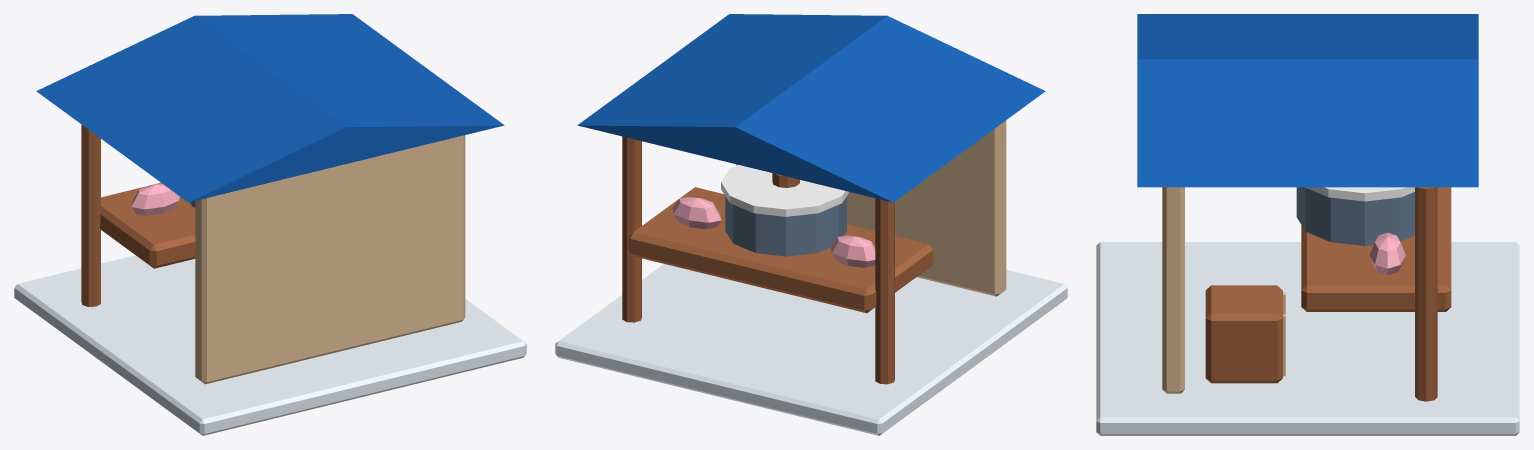
File: Building_Kamaboko_2x2_v001.fbx
The picture shows the model from 3 angles, left to right: view 1: azimuth 30°, elevation 25°; view 2: azimuth 150°, elevation 25°; view 3: azimuth 270°, elevation 25°; orthographic projection. The views are drawn at different scales.
Parts seen in each view (by area): view 1: Roof, BackWall, Foundation, Worktop, Post.001, Kamaboko.001; view 2: Roof, Foundation, BackWall, Worktop, Steamer, SteamerLid_Anim, Post.001, Post, Kamaboko, Kamaboko.001; view 3: Roof, Foundation, Worktop, Crate, Steamer, Post, BackWall, SteamerLid_Anim, Kamaboko.
Part boxes in pixels (x1=…): Roof: x1=36, y1=14, x2=504, y2=202; BackWall: x1=195, y1=135, x2=465, y2=384; Foundation: x1=14, y1=255, x2=526, y2=435; Worktop: x1=100, y1=183, x2=195, y2=268; Post.001: x1=81, y1=124, x2=100, y2=306; Kamaboko.001: x1=131, y1=183, x2=179, y2=215; Roof: x1=577, y1=14, x2=1045, y2=202; Foundation: x1=555, y1=264, x2=1067, y2=435; BackWall: x1=736, y1=120, x2=1006, y2=296; Worktop: x1=628, y1=187, x2=933, y2=313; Steamer: x1=725, y1=196, x2=846, y2=256; SteamerLid_Anim: x1=721, y1=165, x2=848, y2=216; Post.001: x1=875, y1=198, x2=894, y2=384; Post: x1=622, y1=136, x2=641, y2=322; Kamaboko: x1=672, y1=196, x2=721, y2=229; Kamaboko.001: x1=830, y1=235, x2=875, y2=267; Roof: x1=1137, y1=14, x2=1478, y2=187; Foundation: x1=1096, y1=242, x2=1519, y2=435; Worktop: x1=1301, y1=187, x2=1451, y2=311; Crate: x1=1205, y1=285, x2=1282, y2=383; Steamer: x1=1296, y1=187, x2=1414, y2=245; Post: x1=1415, y1=187, x2=1437, y2=401; BackWall: x1=1162, y1=187, x2=1184, y2=393; SteamerLid_Anim: x1=1305, y1=187, x2=1414, y2=201; Kamaboko: x1=1369, y1=232, x2=1405, y2=275.
Bounding box in the file's own units: 186 × 140 × 186.
